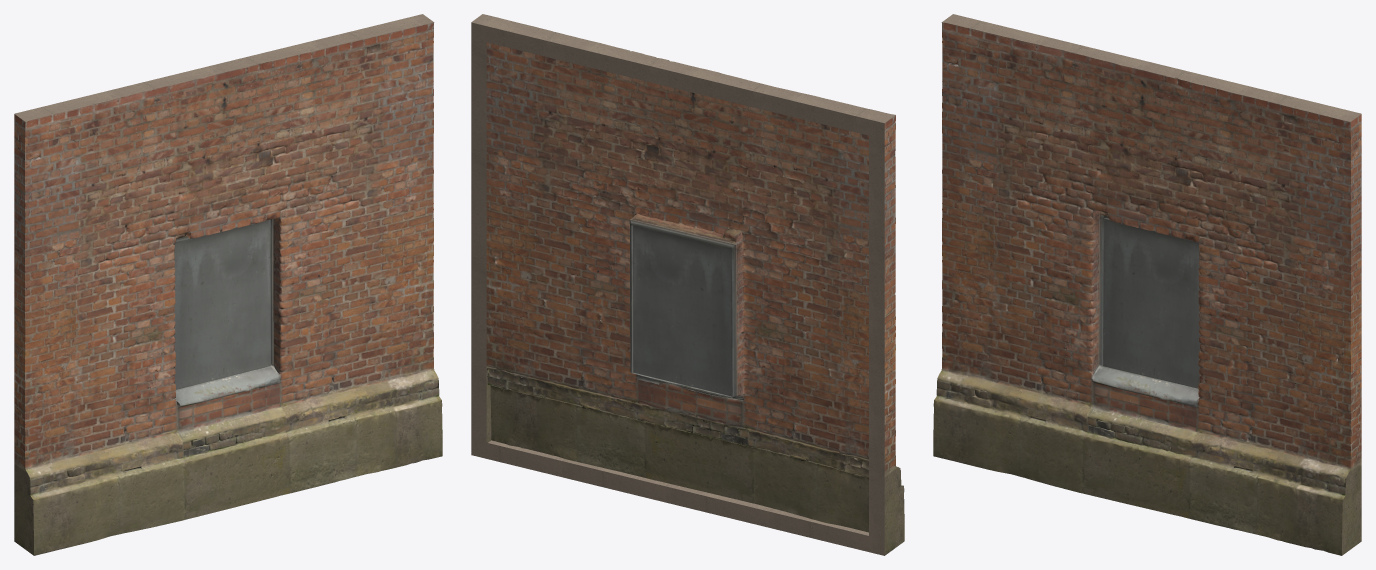
File: modular_wall_1.fbx
3 views of the same model, side by side, from view 1: azimuth 30°, elevation 25°; view 2: azimuth 150°, elevation 25°; view 3: azimuth 330°, elevation 25° (orthographic).
Parts seen in each view (by area): view 1: modular_wall_1; view 2: modular_wall_1; view 3: modular_wall_1.
Boxes of the visible parts, x1,y1,x2,y2 form: modular_wall_1: (14, 14, 442, 555); modular_wall_1: (471, 14, 904, 555); modular_wall_1: (933, 14, 1361, 555).
Size of the model in its own units: 400 by 400 by 35.29.
